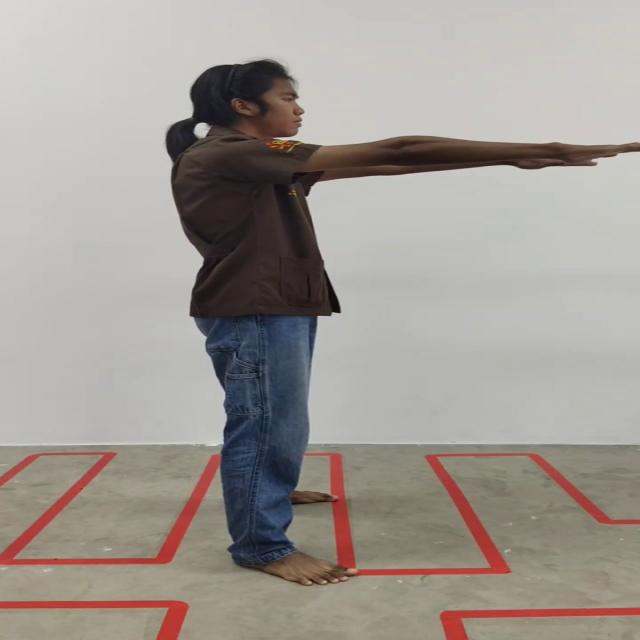stand: (166, 59, 629, 588)
